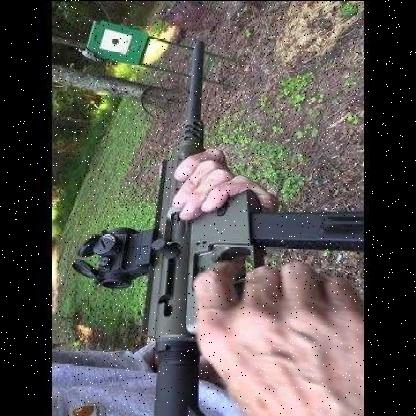rifle: (119, 19, 394, 416)
